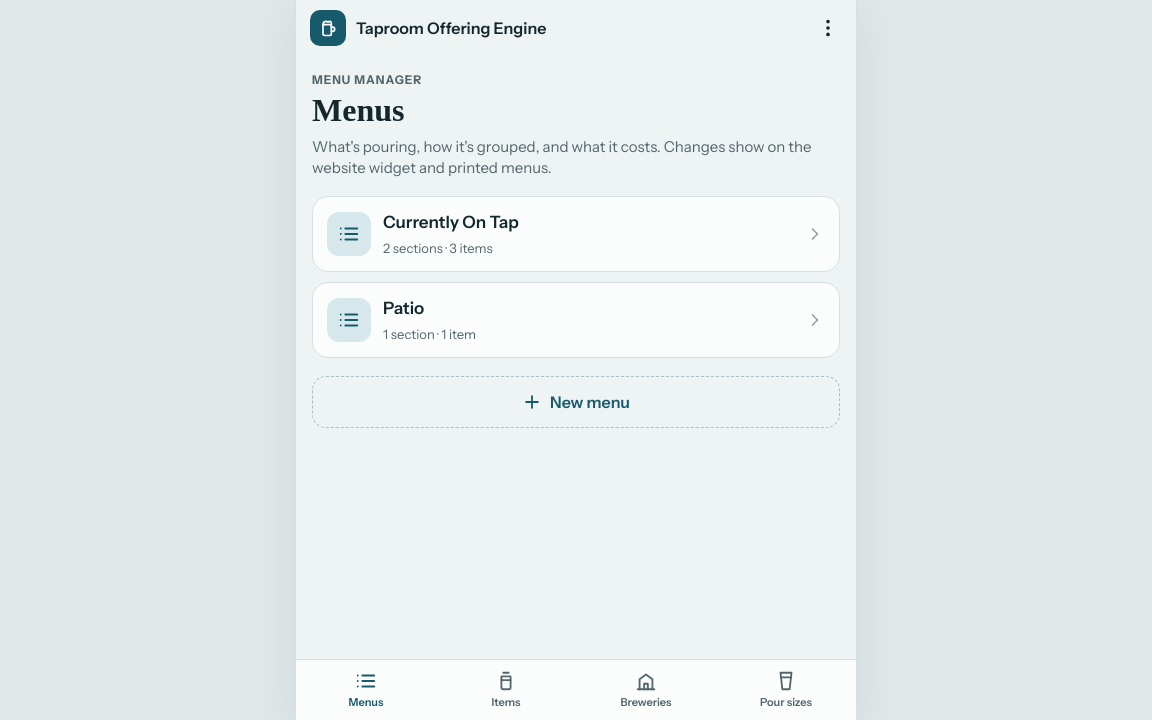
Test: HomePage › creates a menu and opens it
Click the button "New menu".
click(576, 402)  # box [312,376,840,428]
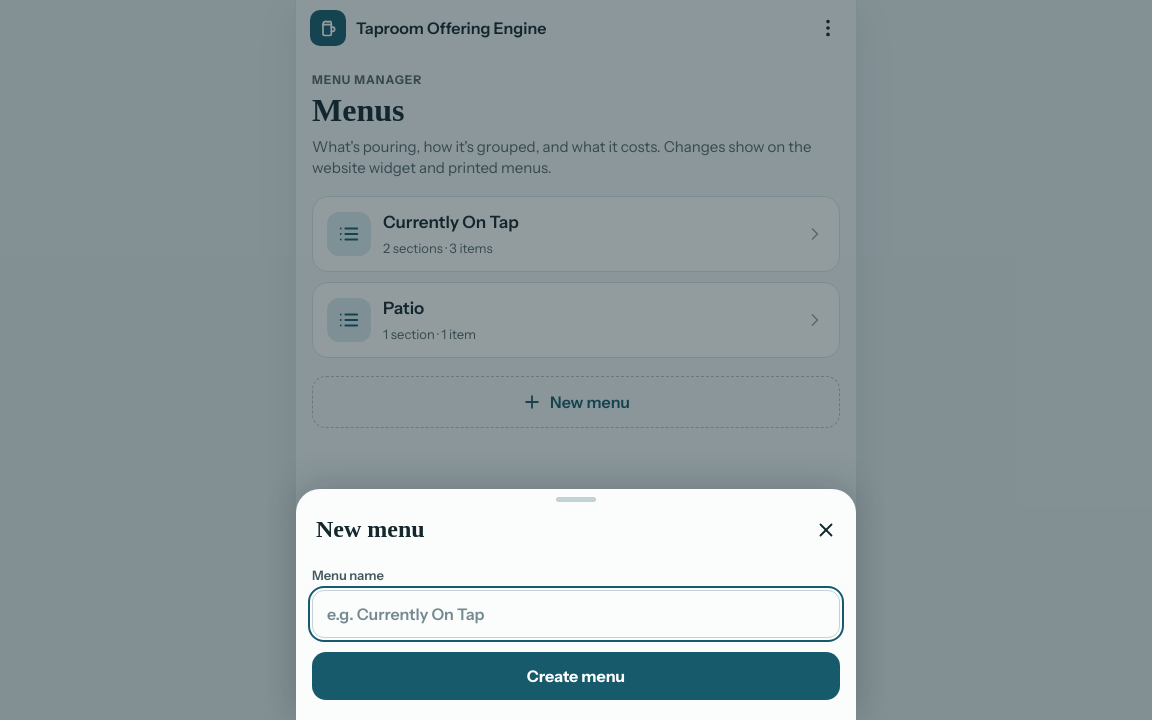
Type "Winter" into the field labelled "Menu name".
click(576, 614); type("Winter")  # box [312,590,840,638]
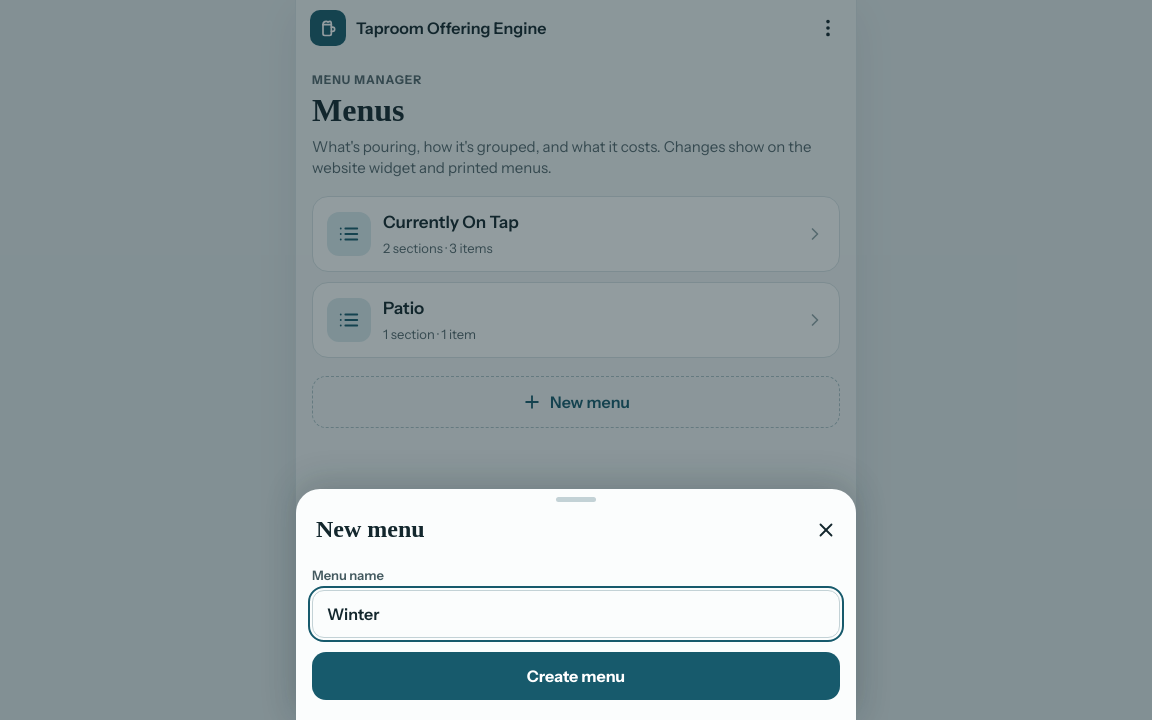
Click the button "Create menu".
click(576, 676)  # box [312,652,840,700]
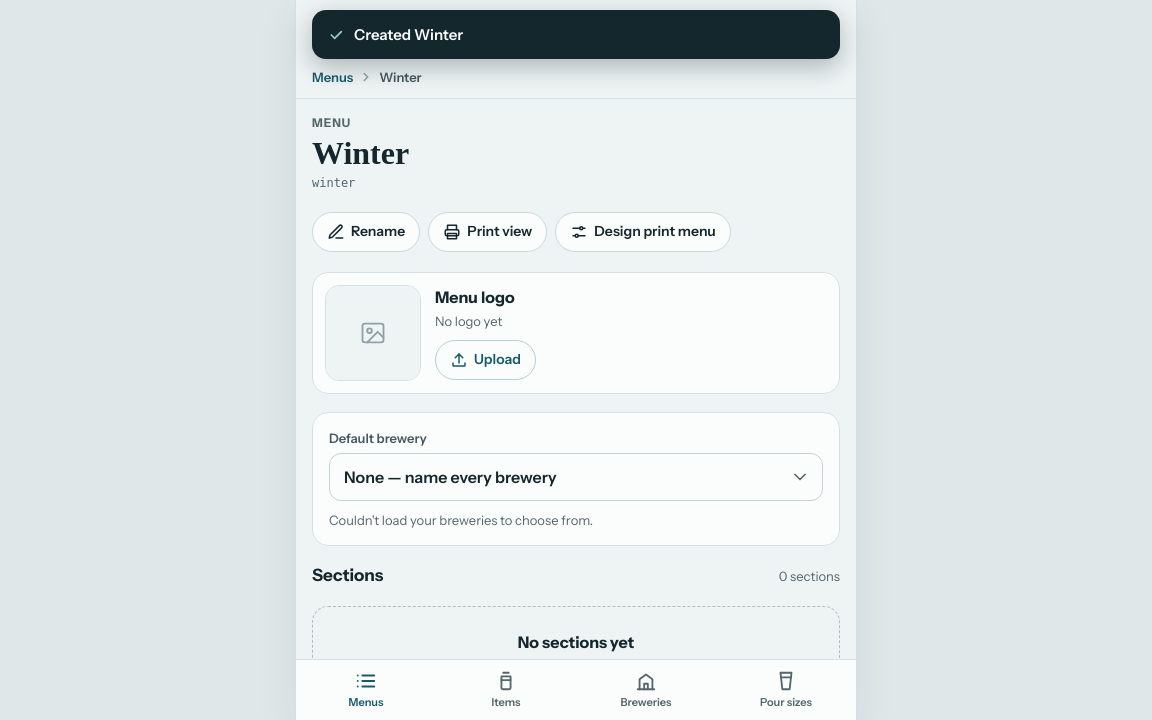
Check: the text "Created Winter" is shown, box [312,10,840,59]
